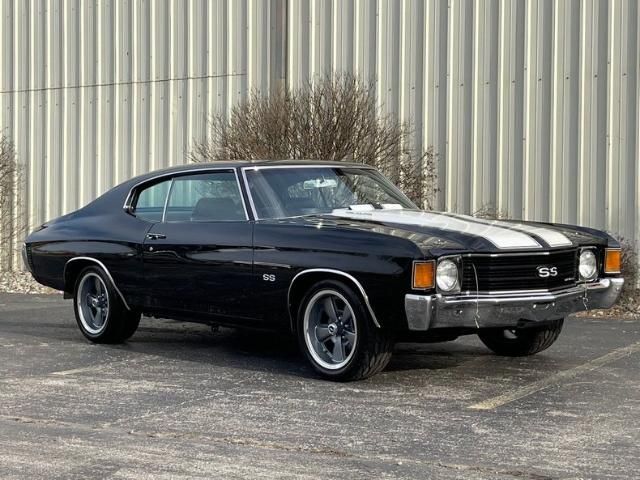chevelle-1972: (22, 161, 624, 381)
